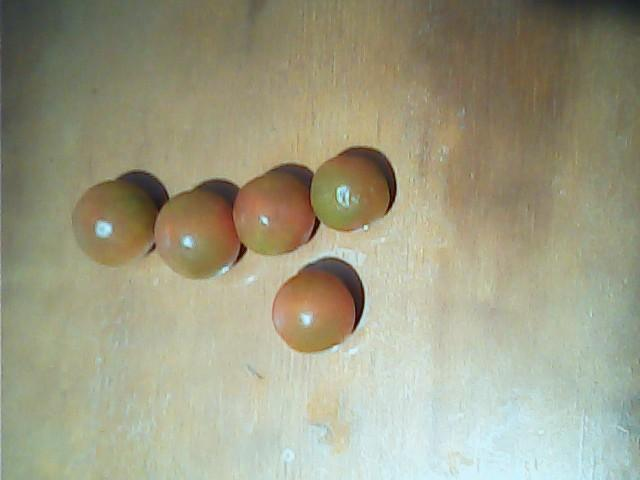verde: (270, 269, 355, 357), (73, 180, 157, 268), (158, 192, 236, 280), (237, 172, 315, 256), (310, 154, 389, 234)
